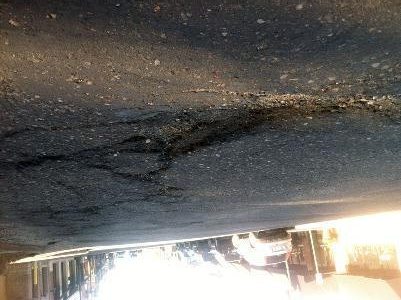pothole: (128, 90, 324, 163), (337, 92, 400, 118)
